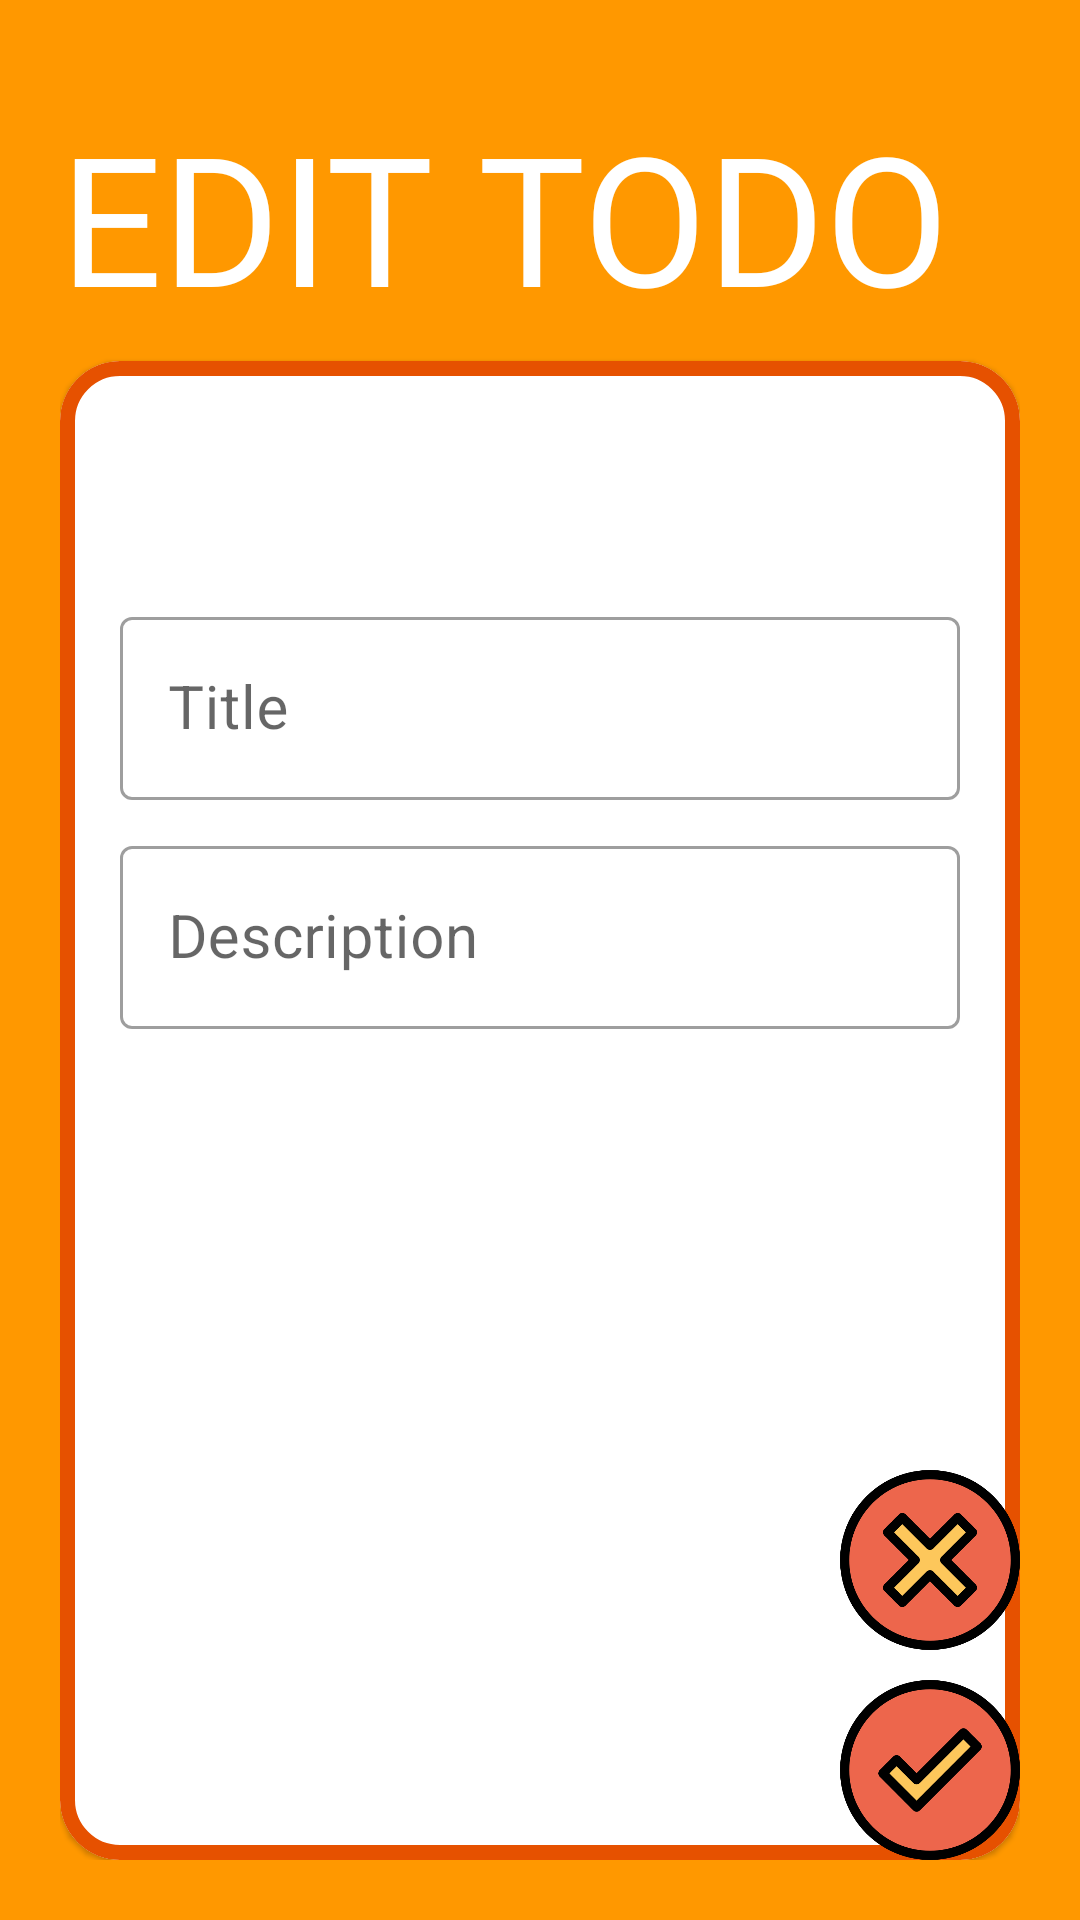

Where to tap for icons on this 1080 x 1920 app screen, as (x=x, y=y):
check: (x=930, y=1770)
close: (x=930, y=1560)
